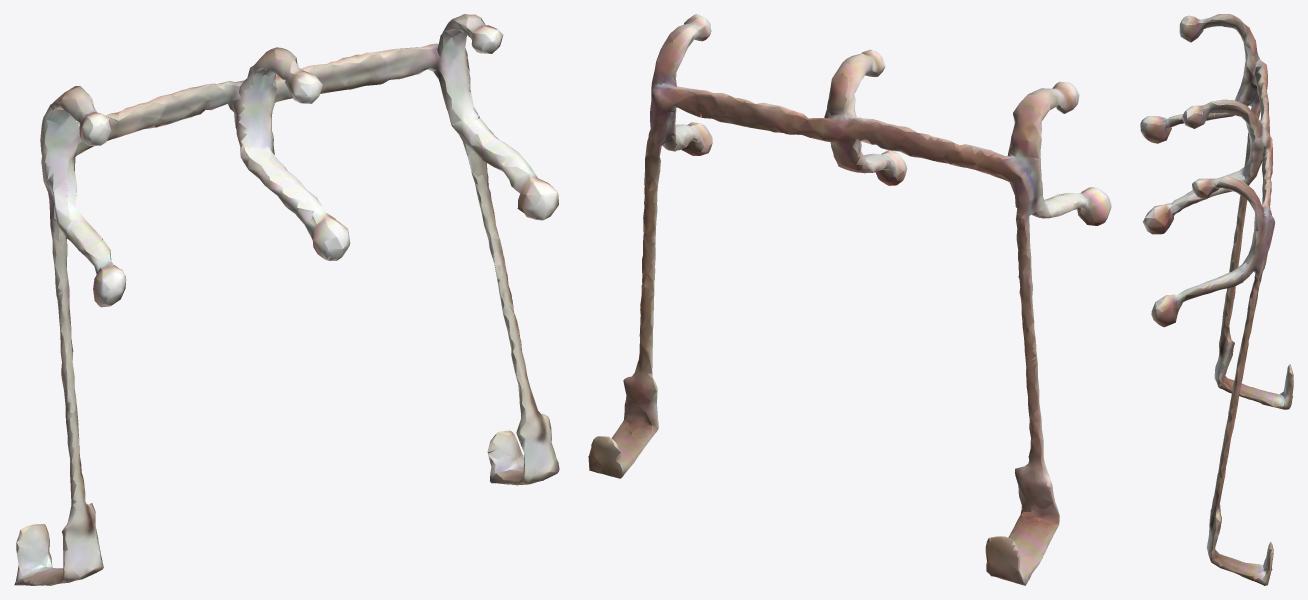
The model's file is hanger.glb.
The picture shows the model from 3 angles, left to right: view 1: azimuth 30°, elevation 25°; view 2: azimuth 150°, elevation 25°; view 3: azimuth 270°, elevation 25°; orthographic projection. The views are drawn at different scales.
Parts seen in each view (by area): view 1: world.206; view 2: world.206; view 3: world.206.
Part boxes in pixels (x1,y1,x2,y2): world.206: (14,14,559,585); world.206: (588,14,1111,585); world.206: (1140,14,1293,585).
Size of the model in its own units: 0.8181 by 0.8058 by 0.2832.
1 material, 1 textured.
